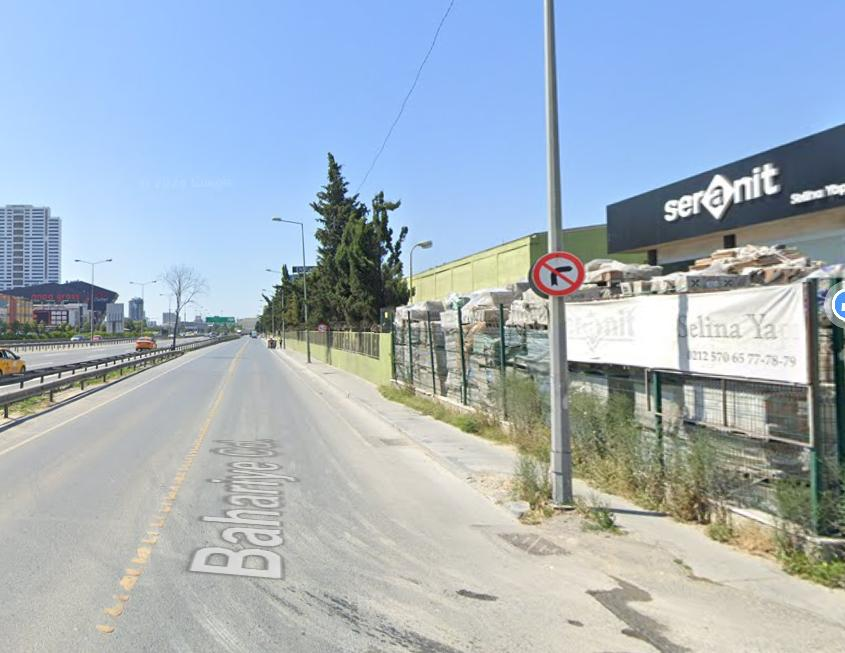rightturnsareforbidden: (531, 250, 585, 297)
